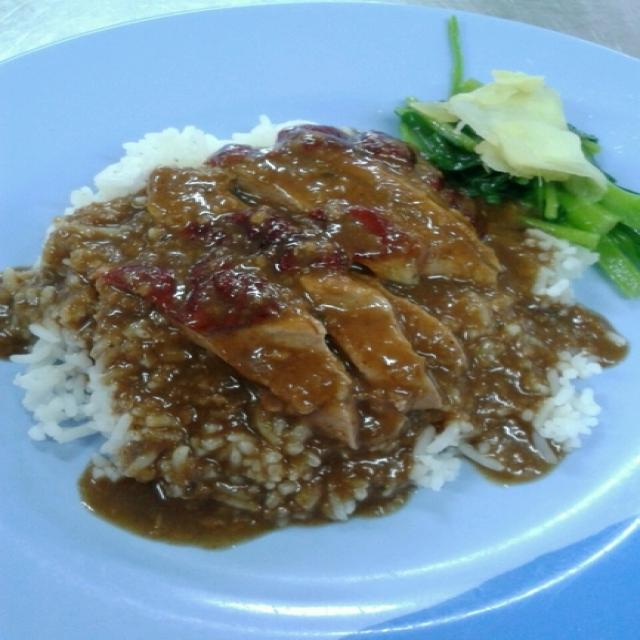米饭主食: (3, 40, 637, 597)
